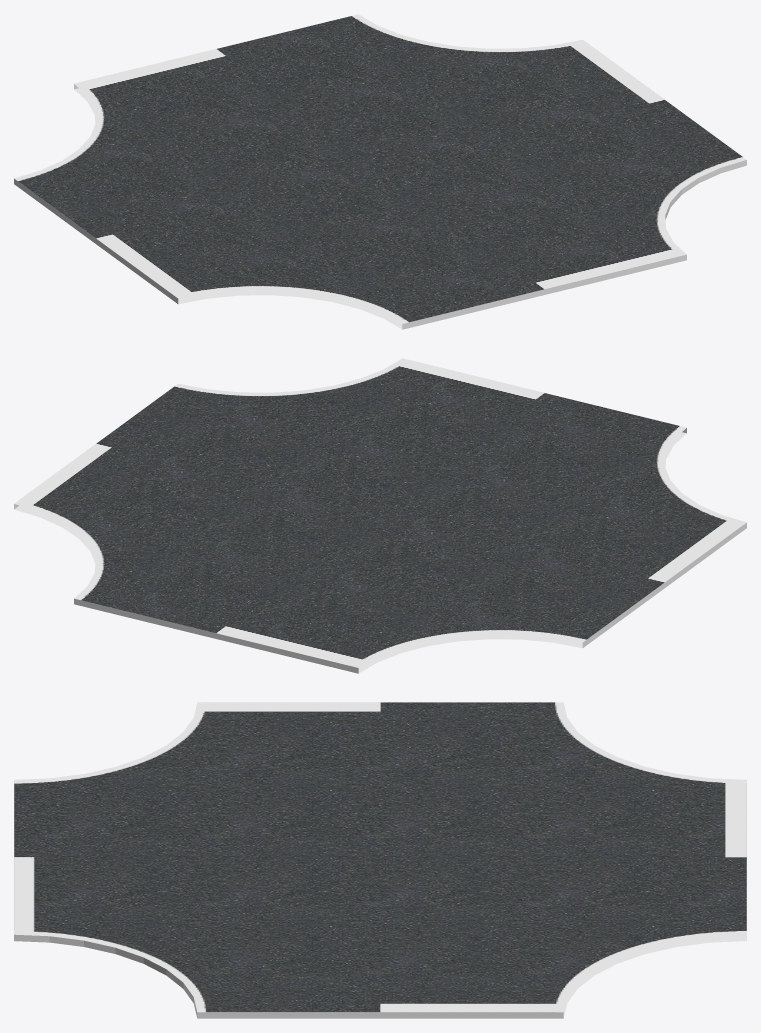
Rendered from road_intersection.dae.
3 views of the same model, one above another, from view 1: azimuth 30°, elevation 25°; view 2: azimuth 150°, elevation 25°; view 3: azimuth 270°, elevation 25° (orthographic). The views are drawn at different scales.
Visible parts, largest first — view 1: Cube; view 2: Cube; view 3: Cube.
Boxes of the visible parts, bbox=[...] form: Cube: bbox=[14, 14, 746, 329]; Cube: bbox=[14, 358, 746, 673]; Cube: bbox=[14, 702, 746, 1018].
Size of the model in its own units: 10.4 by 10.4 by 0.1.
Materials: 1 (1 with a texture image).
